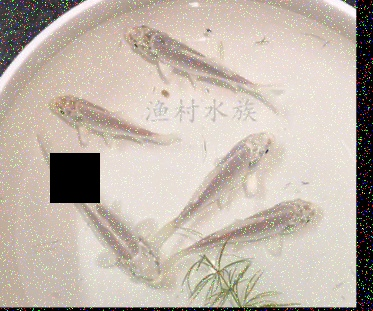fry: (42, 168, 168, 303), (120, 15, 283, 109), (194, 191, 326, 265), (169, 121, 273, 214), (50, 82, 184, 154)
